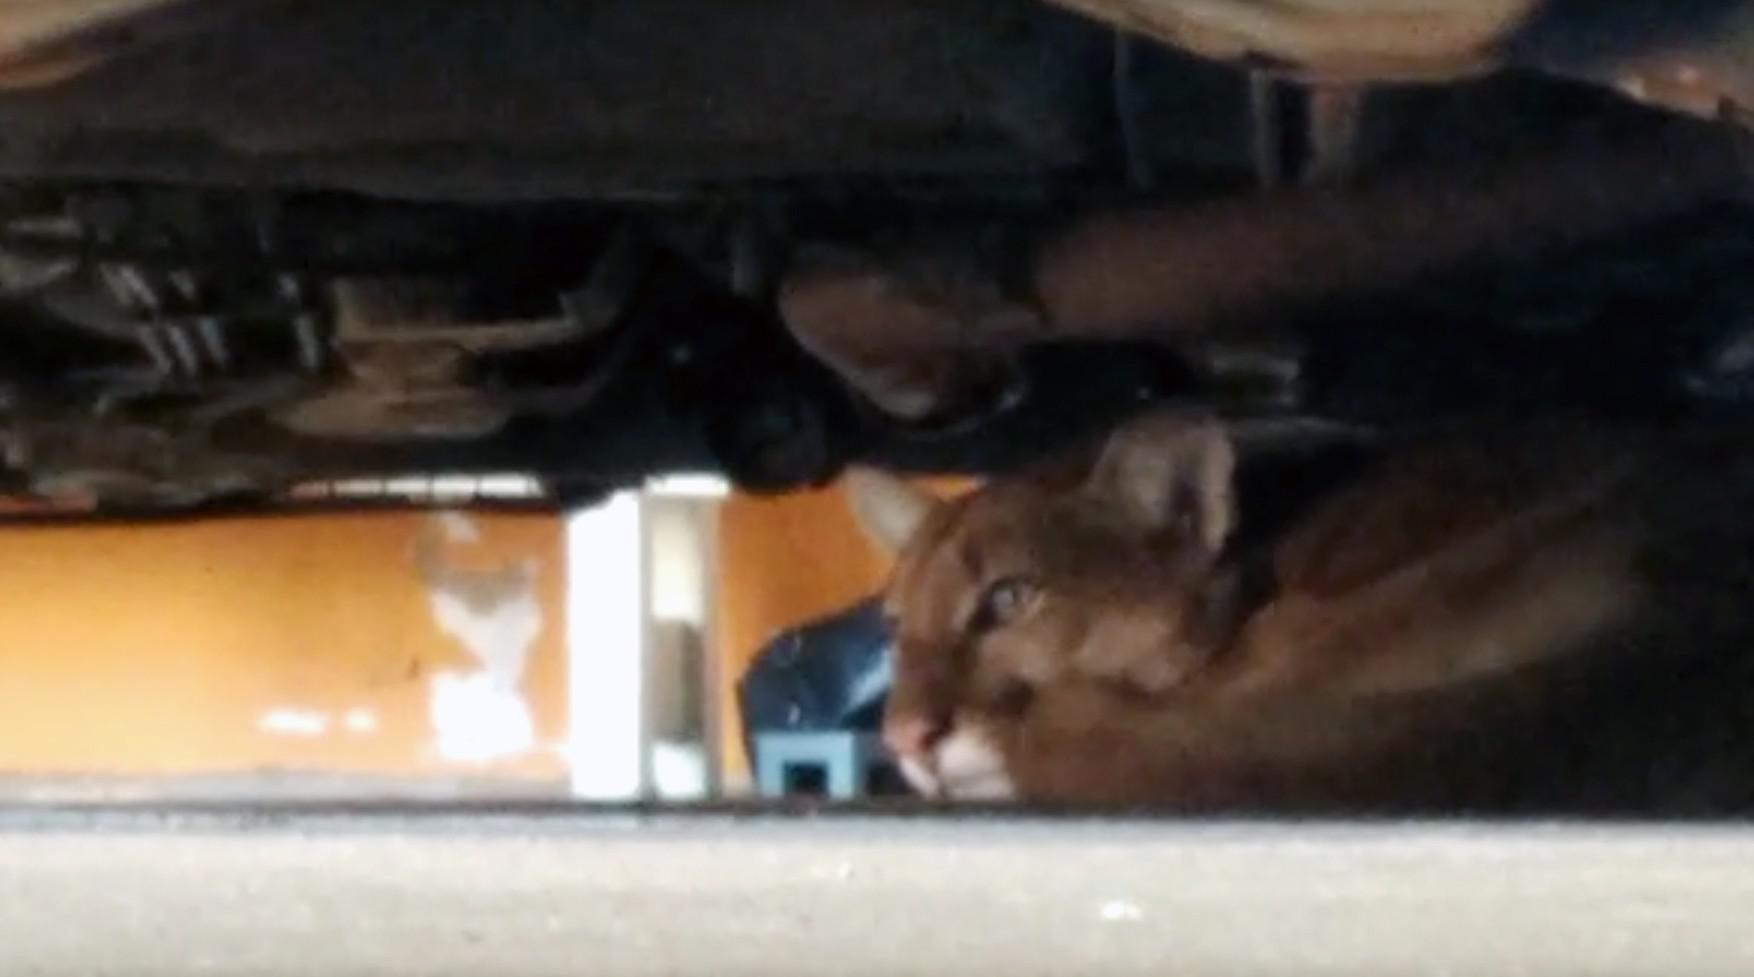OncaParda: (830, 392, 1553, 804)
